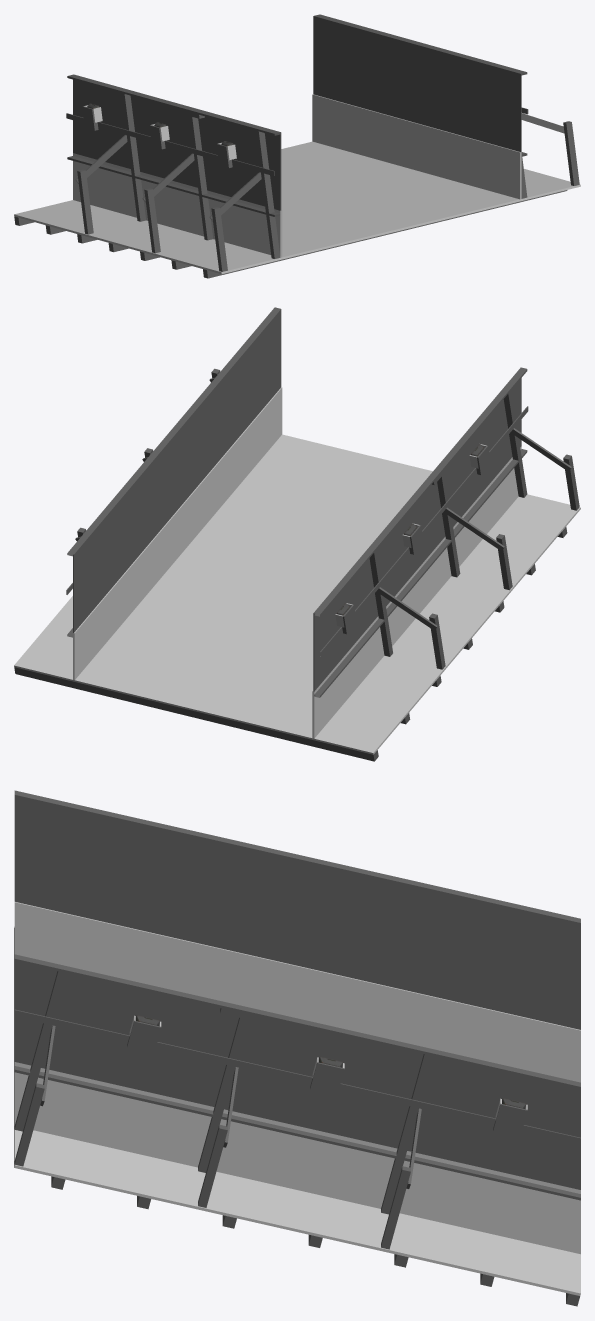
The model's file is wood_slope_384x96.fbx.
3 views of the same model, one above another, from view 1: azimuth 30°, elevation 25°; view 2: azimuth 150°, elevation 25°; view 3: azimuth 270°, elevation 25° (orthographic). The views are drawn at different scales.
Visible parts, largest first — view 1: wood_slope_384x96; view 2: wood_slope_384x96; view 3: wood_slope_384x96.
Part boxes in pixels (x1,y1,x2,y2): wood_slope_384x96: [14, 14, 580, 278]; wood_slope_384x96: [14, 307, 580, 761]; wood_slope_384x96: [14, 790, 580, 1306].
Size of the model in its own units: 386 by 234 by 384.
